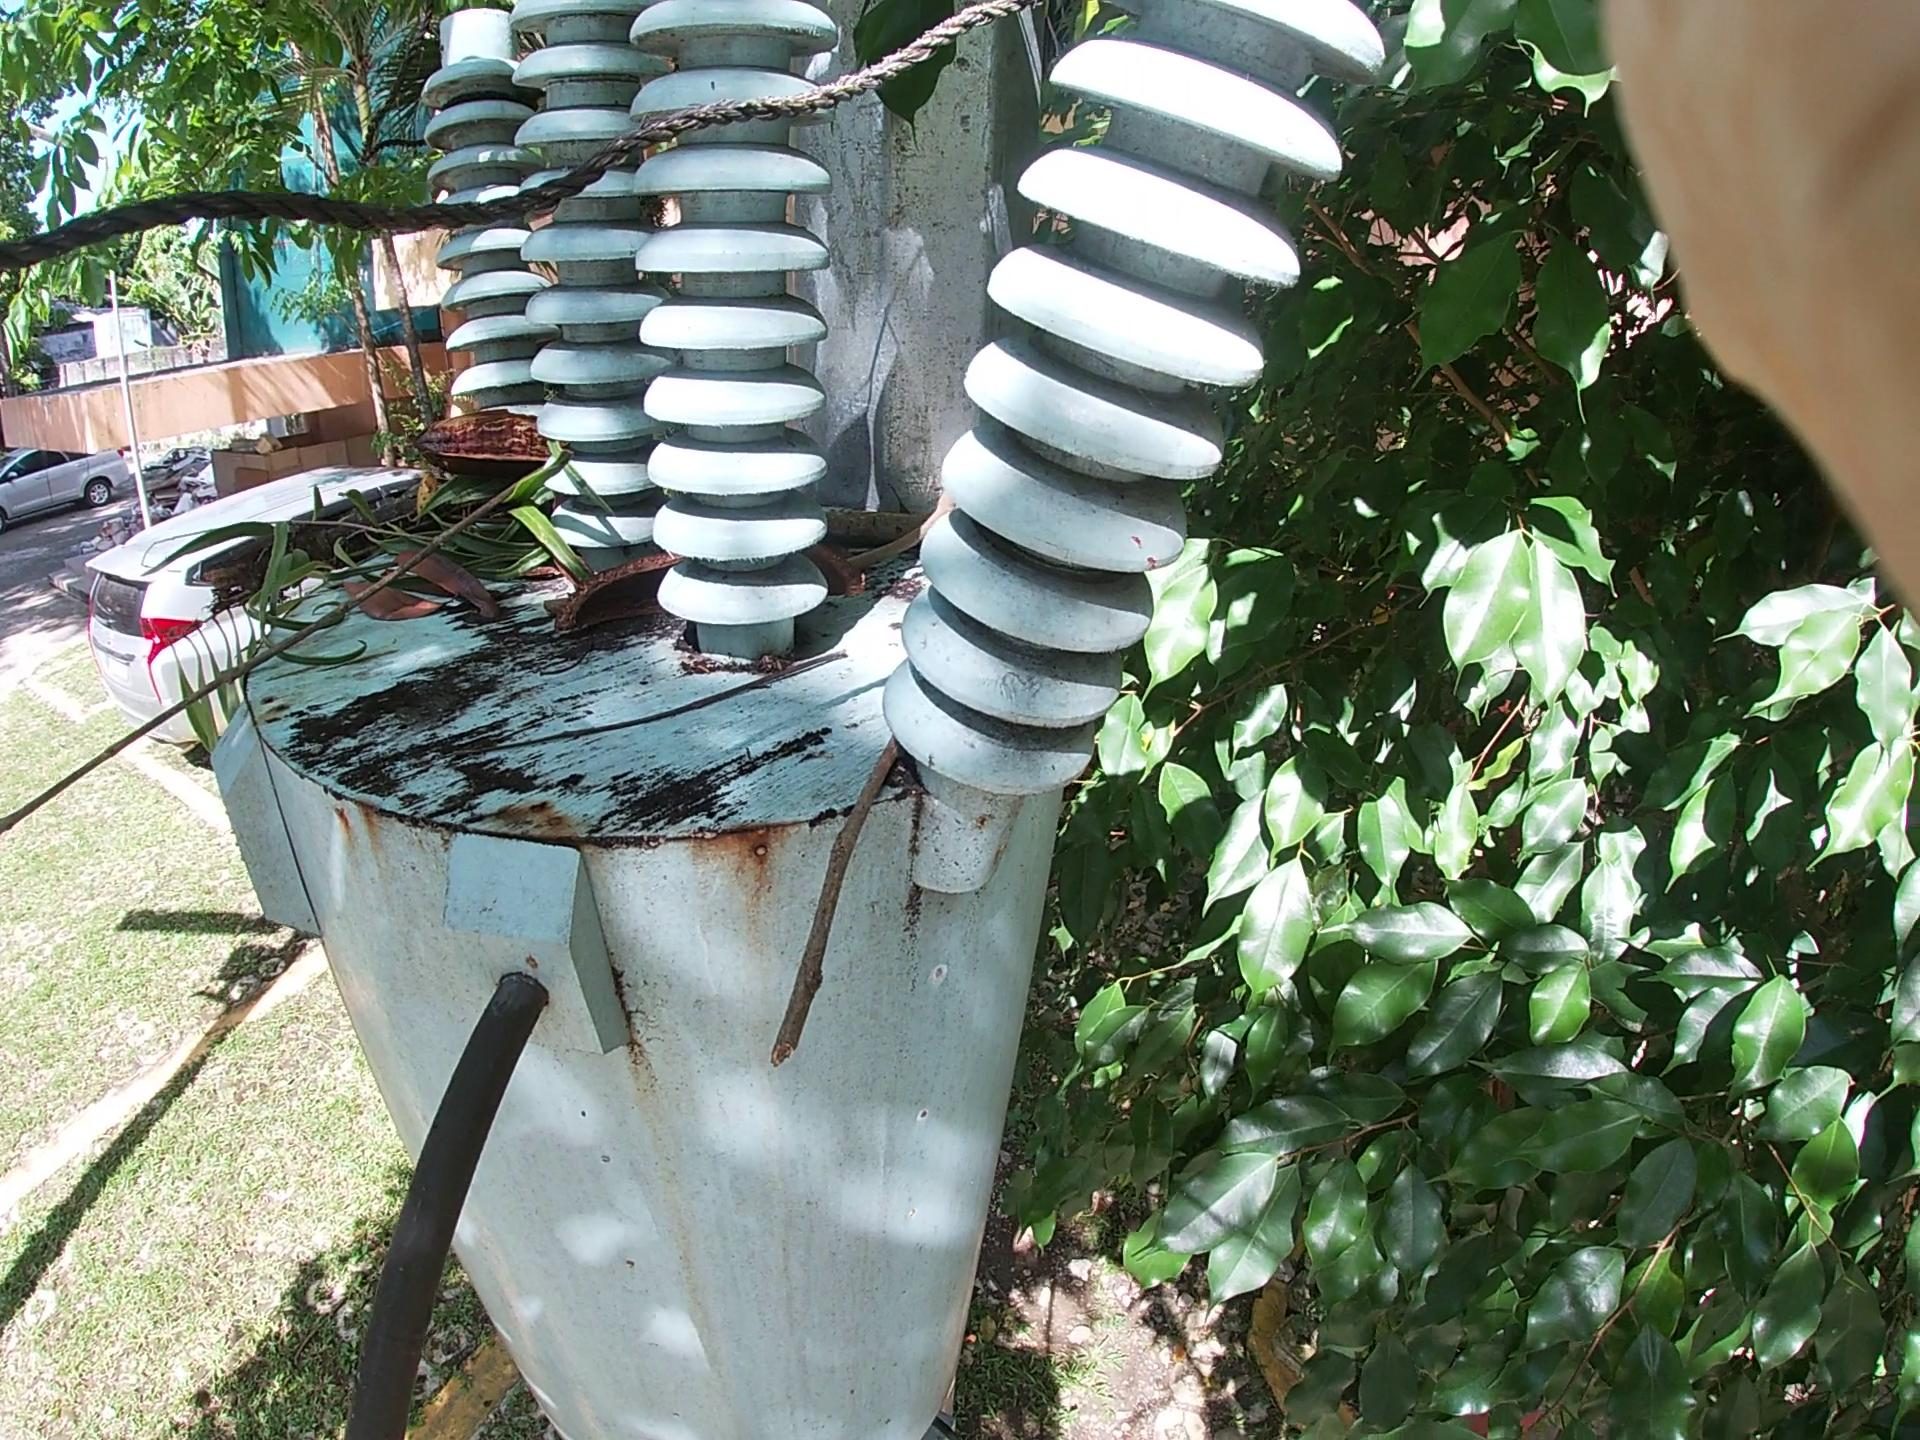branch with leaves: (194, 280, 1123, 678)
leaf: (333, 517, 509, 666)
tree branch: (3, 371, 671, 877), (779, 722, 900, 1057)
